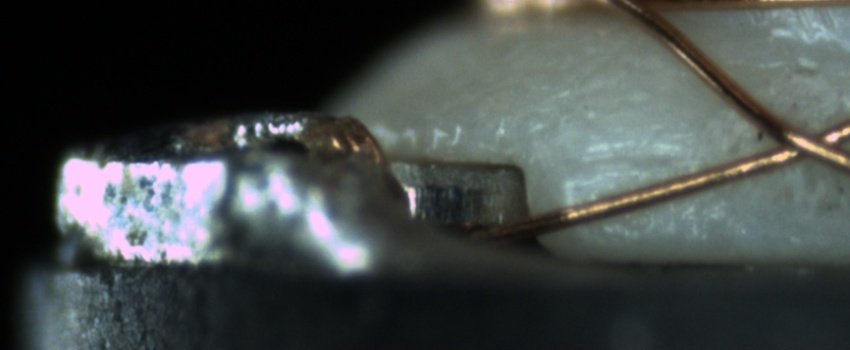CL: (742, 102, 845, 174)
DL: (568, 124, 718, 188)
TE: (177, 107, 400, 170)
